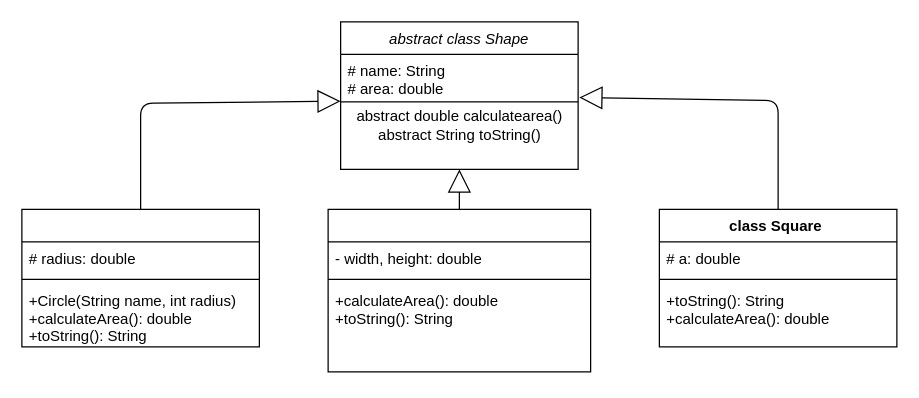
Some shapes in this 919 by 398 pixel diagram are drawn without their labels. Each missing label, with the box of its shape:
class Circle: (21, 208, 259, 347)
class Rectangle: (327, 208, 591, 372)
